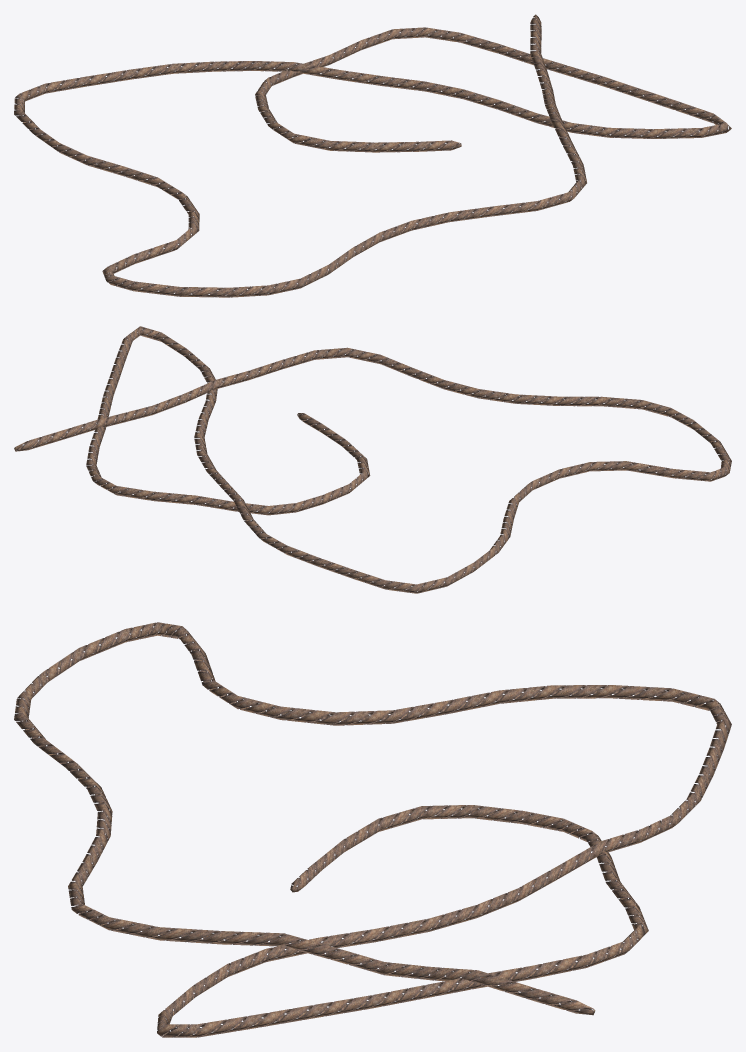
The picture shows the model from 3 angles, top to bottom: view 1: azimuth 30°, elevation 25°; view 2: azimuth 150°, elevation 25°; view 3: azimuth 270°, elevation 25°; orthographic projection. The views are drawn at different scales.
Visible parts, largest first — view 1: SM_DR_Rope_04_LOD0; view 2: SM_DR_Rope_04_LOD0; view 3: SM_DR_Rope_04_LOD0.
Part boxes in pixels (x1,y1,x2,y2): SM_DR_Rope_04_LOD0: (14,14,731,297); SM_DR_Rope_04_LOD0: (14,326,731,593); SM_DR_Rope_04_LOD0: (14,622,731,1037).
Size of the model in its own units: 5.56 by 0.145 by 4.13.
1 material, 1 textured.
